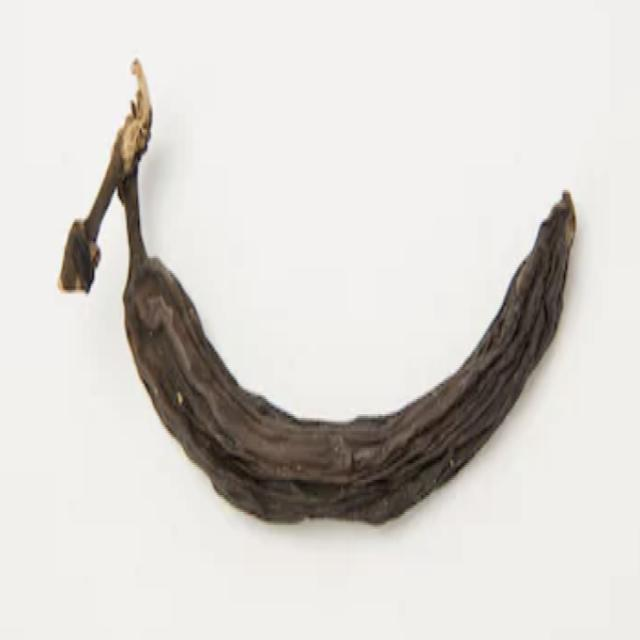rotten-banana: (58, 55, 578, 525)
